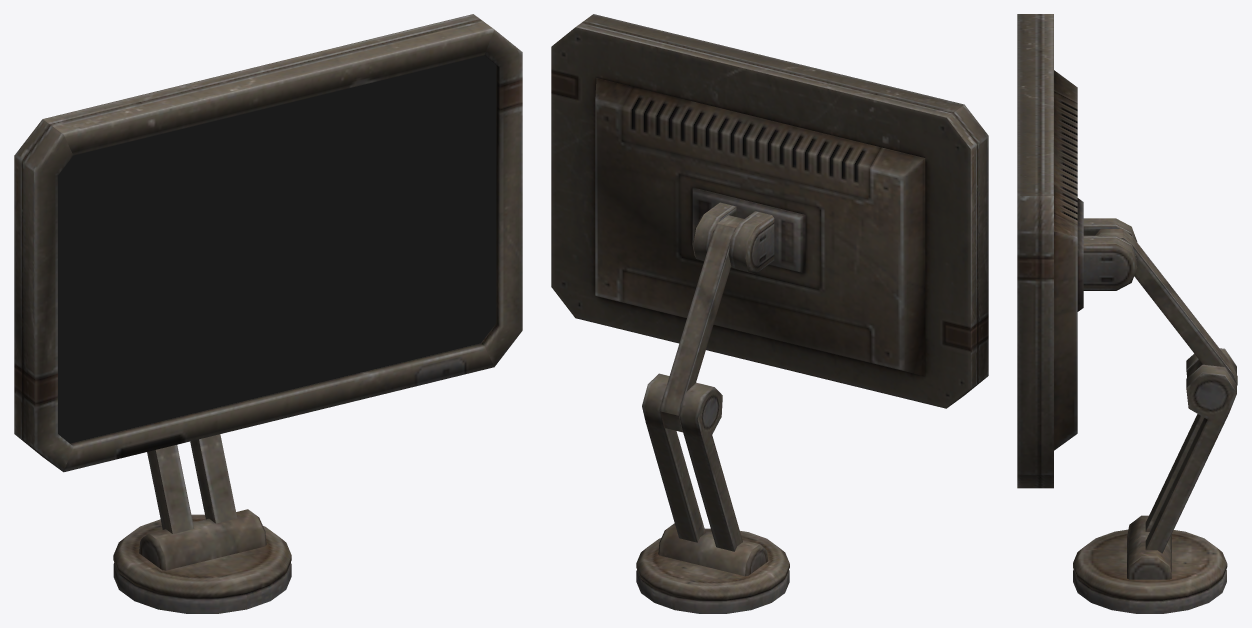
The model's file is computer_parts_monitor_swivvel_GUI.dae.
The picture shows the model from 3 angles, left to right: view 1: azimuth 30°, elevation 25°; view 2: azimuth 150°, elevation 25°; view 3: azimuth 270°, elevation 25°; orthographic projection. The views are drawn at different scales.
Visible parts, largest first — view 1: screen_GUI, screen, pivot, bracket1, base; view 2: screen, bracket1, pivot, bracket2, base; view 3: screen, pivot, bracket1, bracket2, base.
Part boxes in pixels (x1,y1,x2,y2): screen_GUI: (58, 55, 496, 443); screen: (14, 14, 522, 472); pivot: (113, 509, 291, 598); bracket1: (147, 434, 237, 533); base: (113, 562, 291, 613); screen: (551, 14, 988, 408); bracket1: (642, 373, 742, 551); pivot: (636, 523, 789, 600); bracket2: (660, 215, 743, 432); base: (636, 570, 789, 613); screen: (1017, 14, 1137, 488); pivot: (1073, 515, 1227, 600); bracket1: (1145, 348, 1236, 553); bracket2: (1095, 229, 1237, 385); base: (1073, 569, 1226, 613).
Bounding box in the file's own units: 0.5798 × 0.627 × 0.2621.
